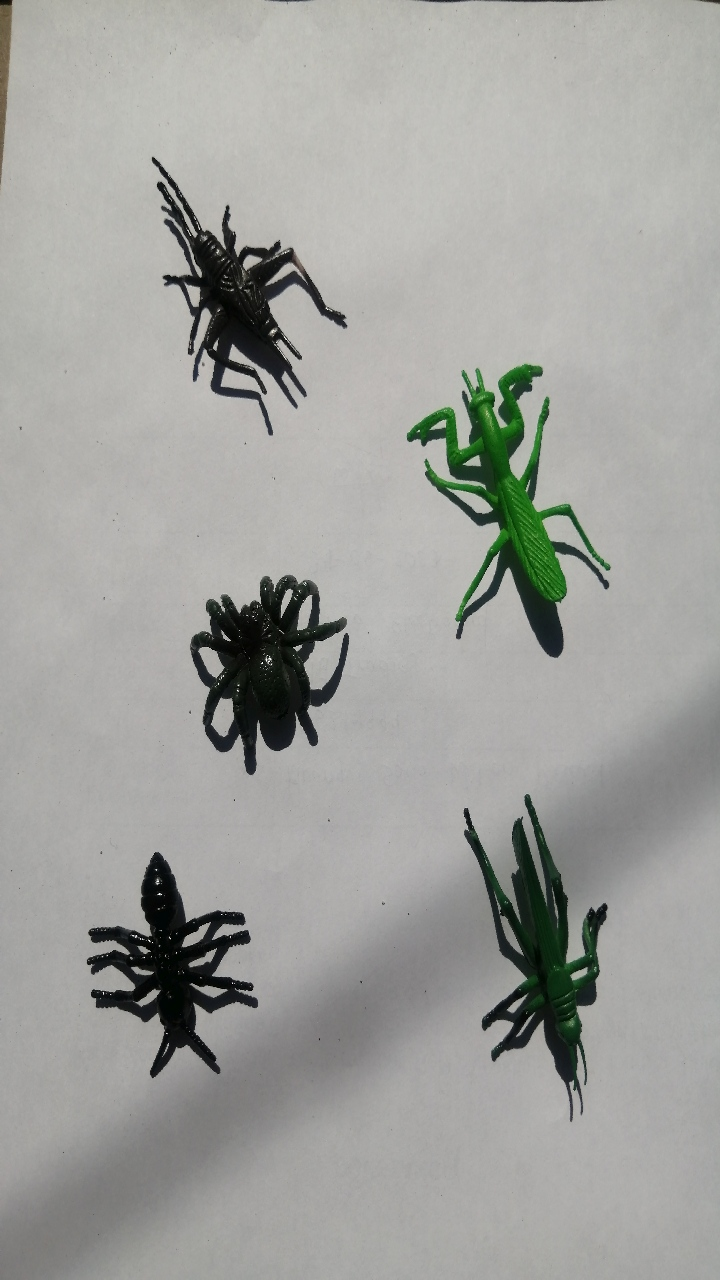intruso: (440, 748, 643, 1146), (384, 309, 623, 645), (123, 125, 358, 448), (52, 831, 286, 1082), (172, 525, 371, 786)
